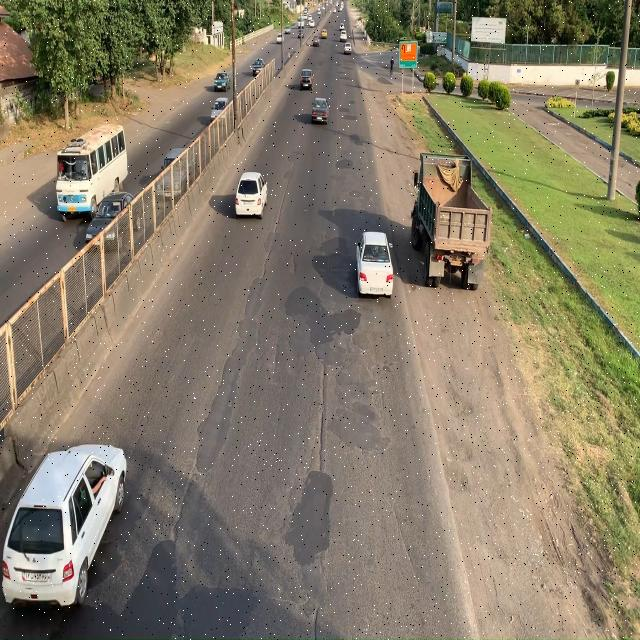Bus: (57, 122, 124, 225)
Truck: (411, 150, 494, 294)
cars: (3, 442, 126, 601), (358, 230, 393, 296), (235, 170, 268, 216)
